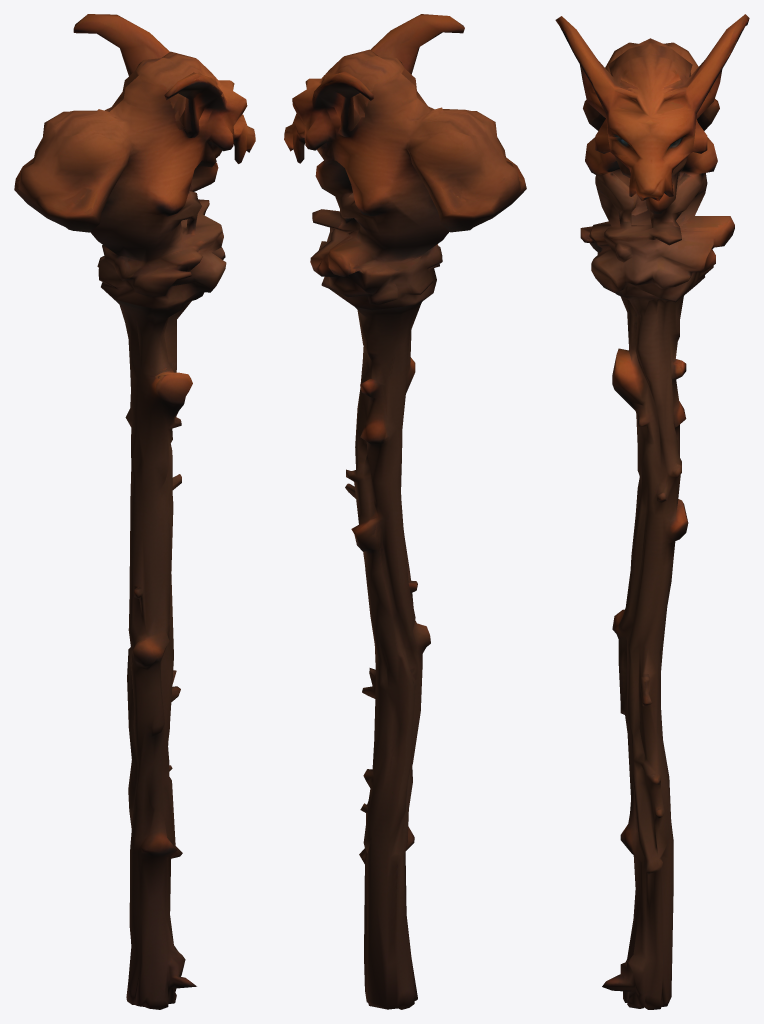
Rendered from goblin_fetish_staff.glb.
The picture shows the model from 3 angles, left to right: view 1: azimuth 30°, elevation 25°; view 2: azimuth 150°, elevation 25°; view 3: azimuth 270°, elevation 25°; orthographic projection. The views are drawn at different scales.
Parts seen in each view (by area): view 1: base_model_path; view 2: base_model_path; view 3: base_model_path.
Boxes of the visible parts, left/top/right/bottom form: base_model_path: left=14, top=14, right=255, bottom=1009; base_model_path: left=284, top=14, right=526, bottom=1009; base_model_path: left=555, top=14, right=749, bottom=1009.
Size of the model in its own units: 0.2524 by 0.9997 by 0.18.
1 material, 1 textured.
